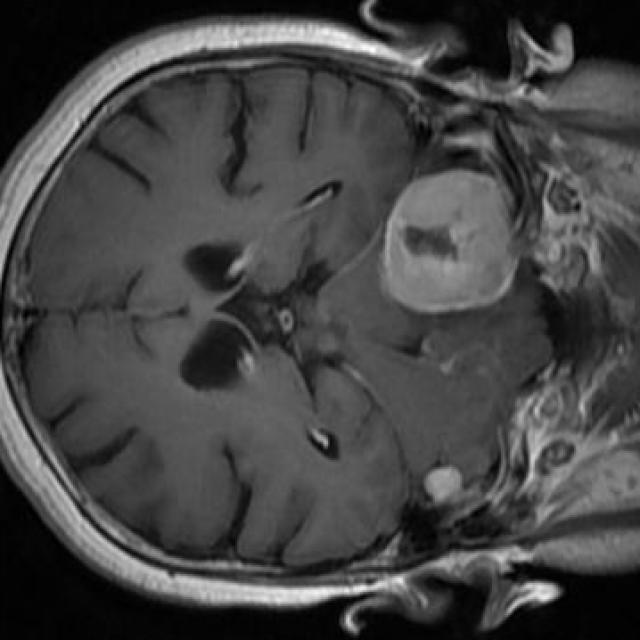meningioma: (382, 169, 517, 316)
